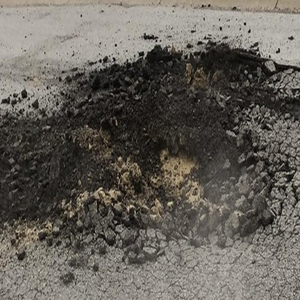pothole: (7, 50, 299, 240)
